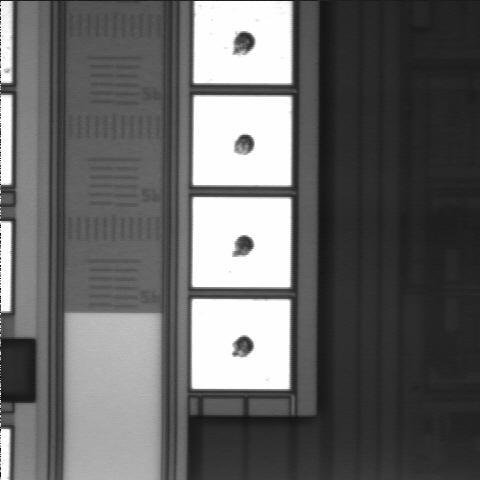pad: (192, 197, 291, 287), (193, 96, 291, 186), (192, 299, 290, 389)
